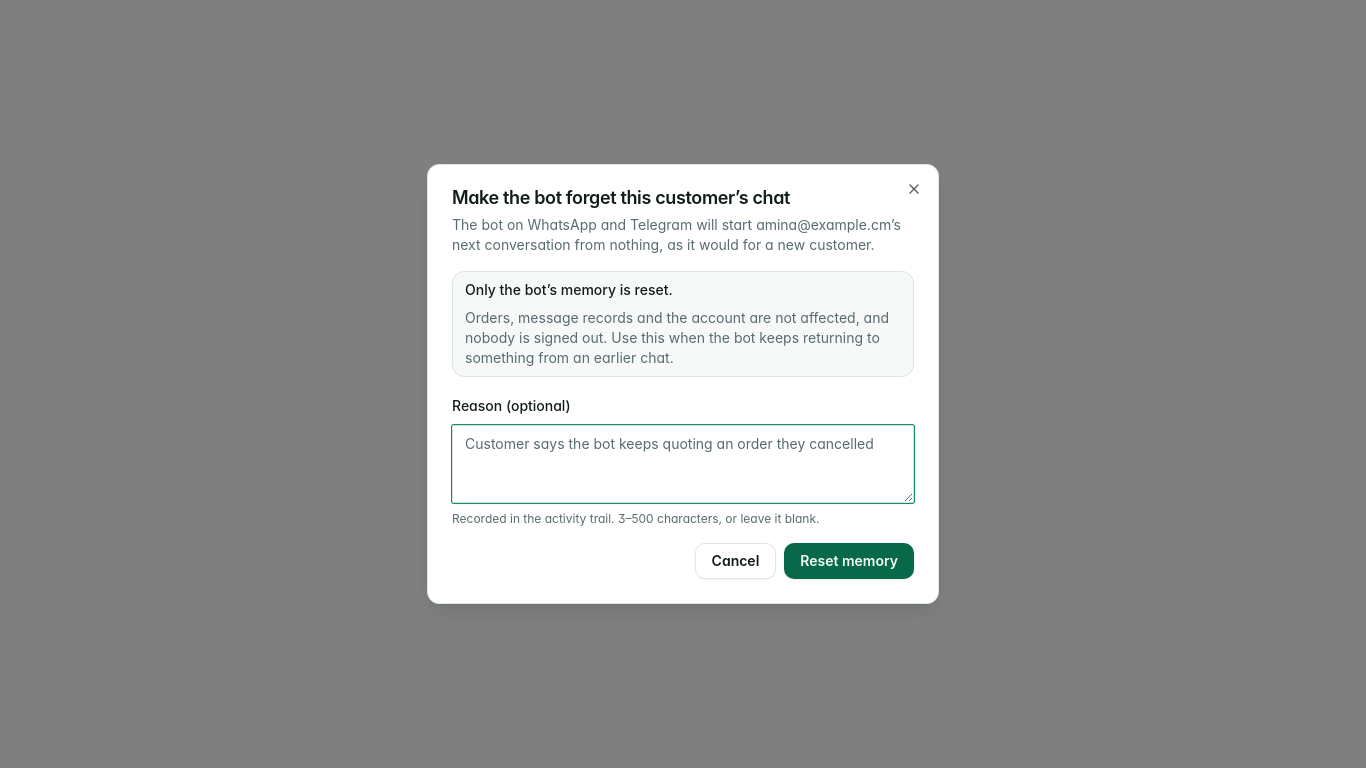
it: the request › refuses a reason under three characters before spending a request
This screenshot has width=1366, height=768.
Type "no" into the text box labelled "Reason (optional)". click: (683, 464)
box: top-left (452, 425), bottom-right (914, 503)
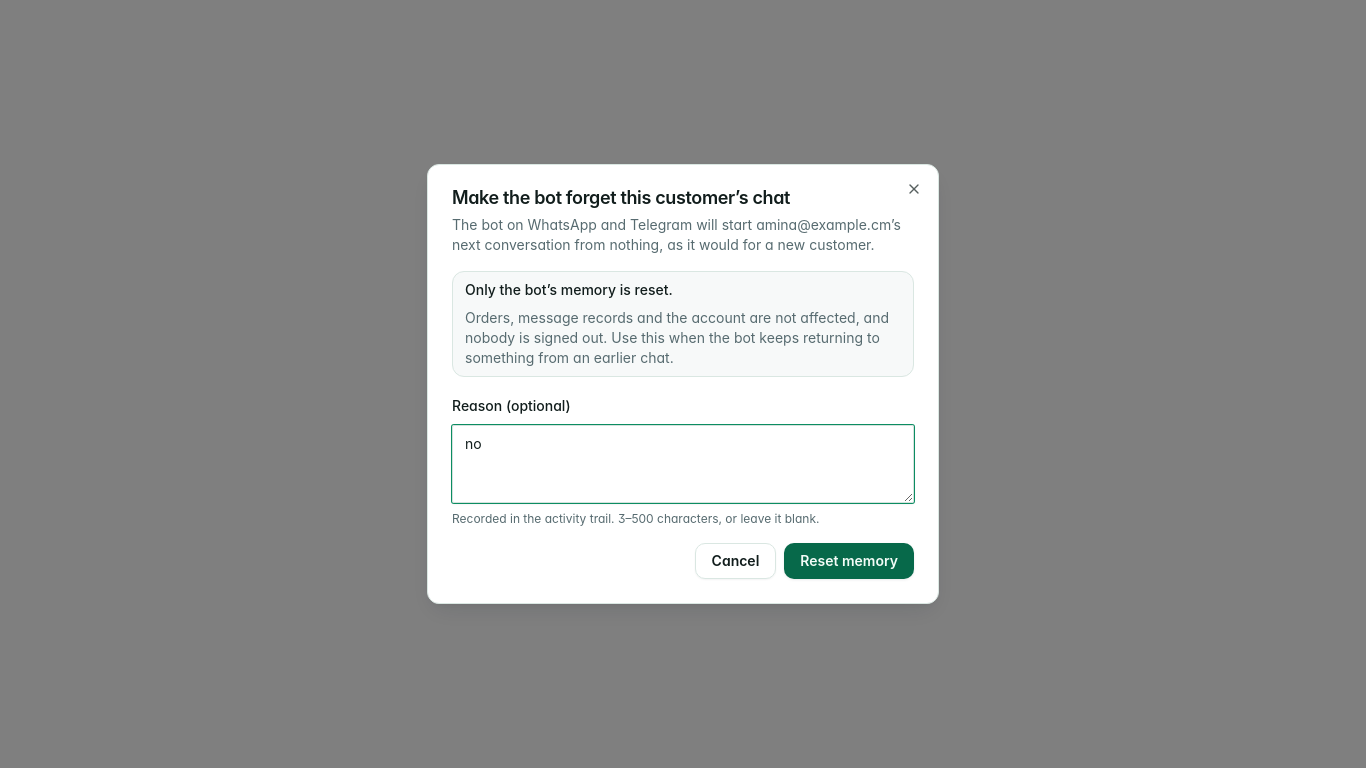
Click the button "Reset memory". click: (849, 561)
box: top-left (784, 543), bottom-right (914, 579)
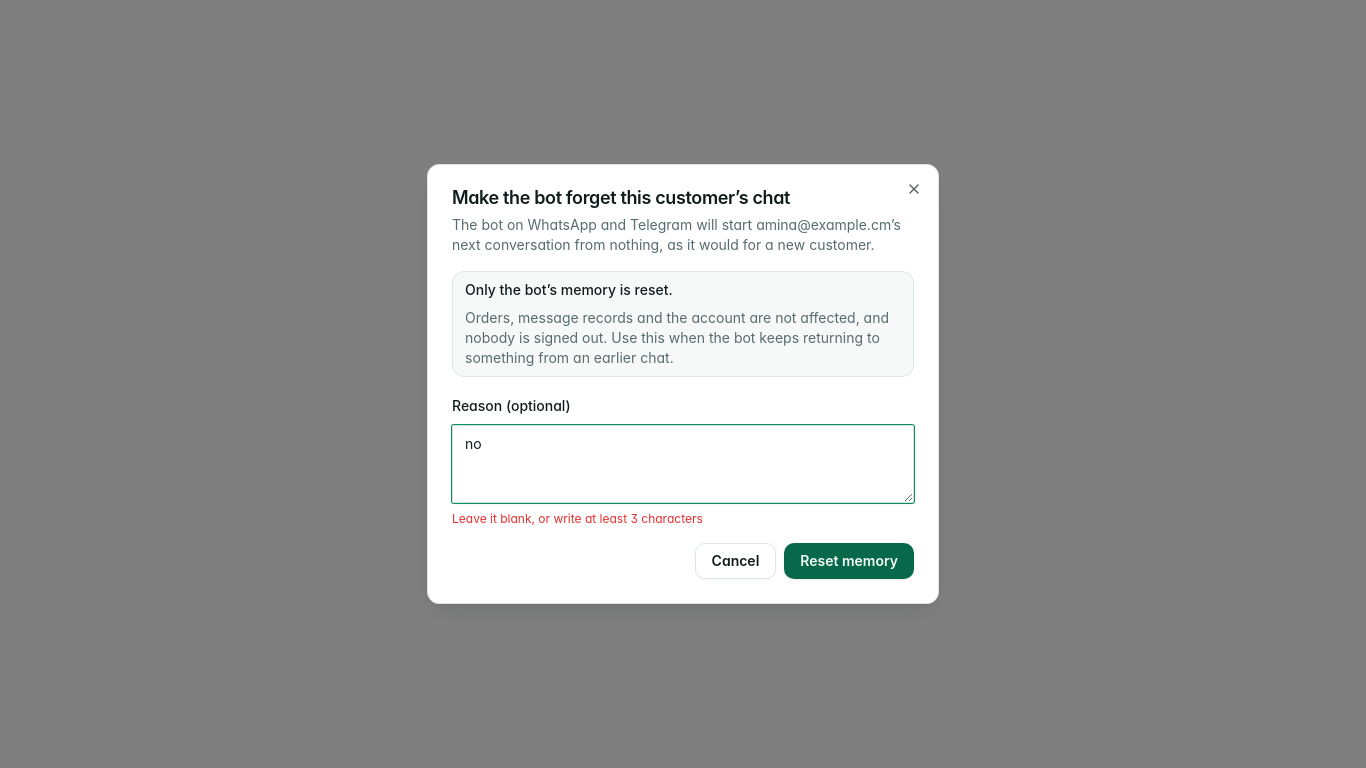
Expected: the text "Leave it blank, or write at least 3 characters" is shown, top-left (452, 511), bottom-right (703, 526)
